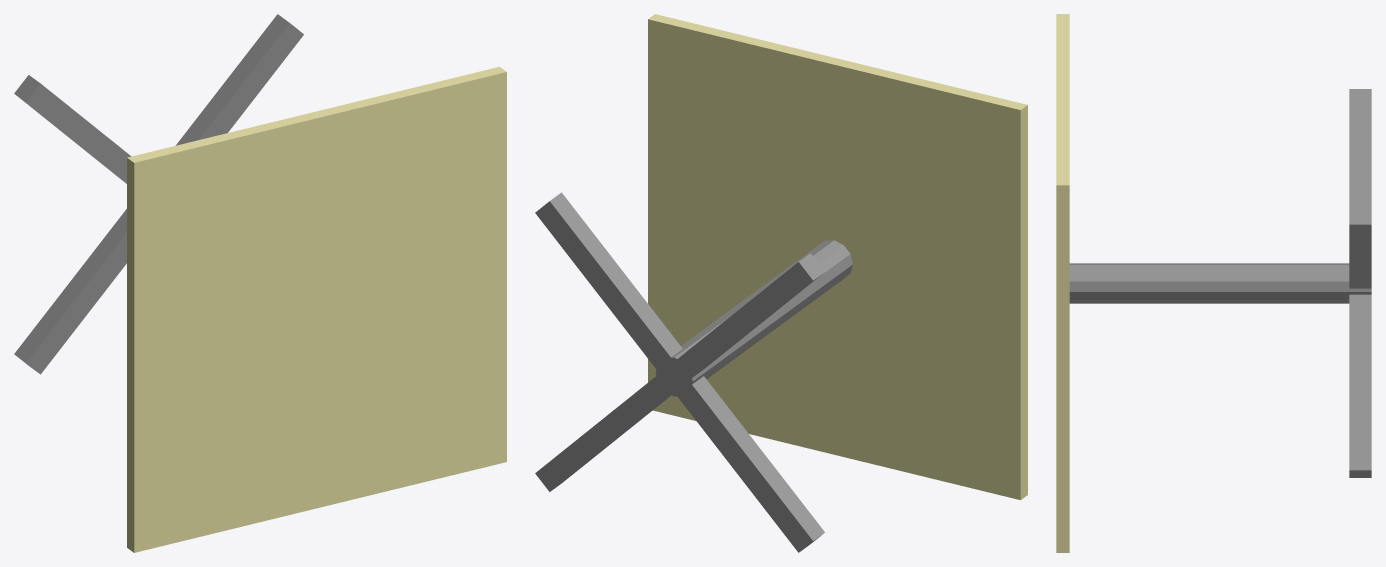
File: nil_link_mesh.dae
3 renders of one model, left to right at view 1: azimuth 30°, elevation 25°; view 2: azimuth 150°, elevation 25°; view 3: azimuth 270°, elevation 25°, orthographic. The views are drawn at different scales.
Parts seen in each view (by area): view 1: nil_link (×3); view 2: nil_link (×4); view 3: nil_link (×4).
Part boxes in pixels (bbox=[...]): nil_link (×3): bbox=[14, 14, 506, 552]; nil_link (×4): bbox=[535, 14, 1027, 552]; nil_link (×4): bbox=[1056, 14, 1371, 552].
Bounding box in the file's own units: 0.9 × 0.9 × 0.7.
